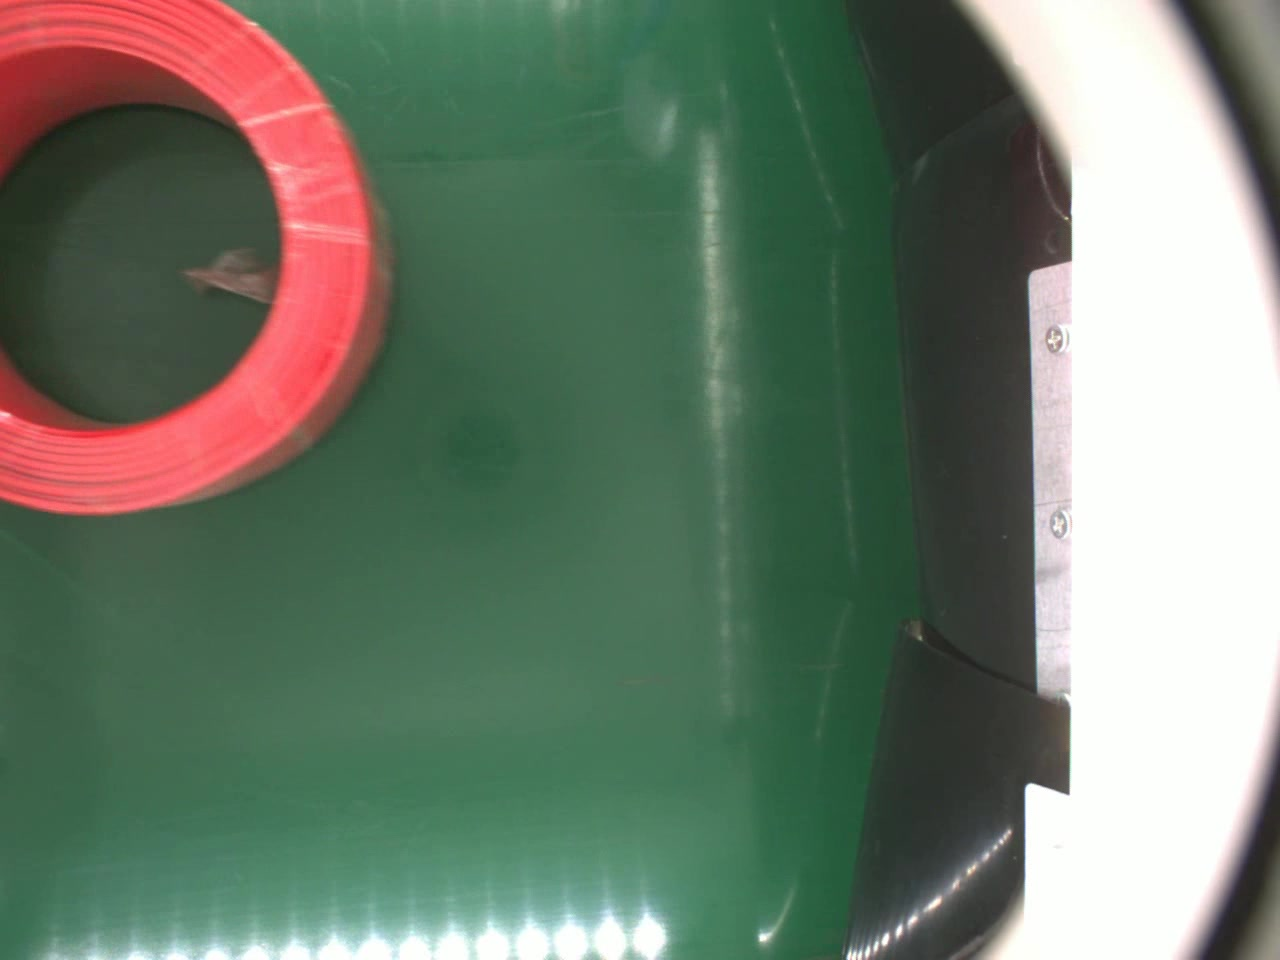red: (0, 0, 398, 517)
